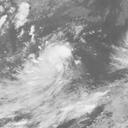cyclone: (22, 42, 72, 90)
